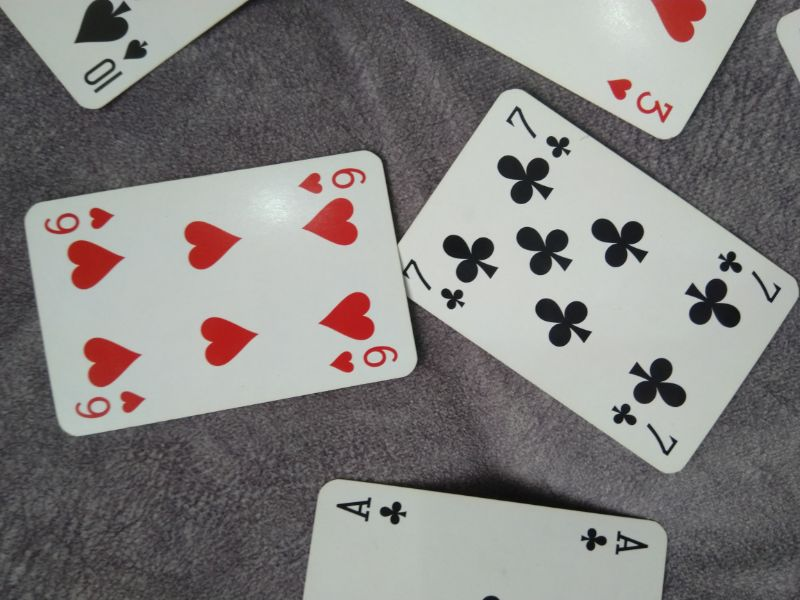3h: (602, 72, 675, 125)
6h: (71, 389, 149, 421), (41, 203, 117, 235), (297, 164, 370, 195), (328, 343, 400, 374)
7c: (609, 399, 682, 459), (715, 246, 784, 306), (400, 254, 467, 315), (504, 103, 573, 158)
Ac: (334, 494, 410, 529), (576, 524, 652, 558)
Ts: (82, 37, 151, 96)
